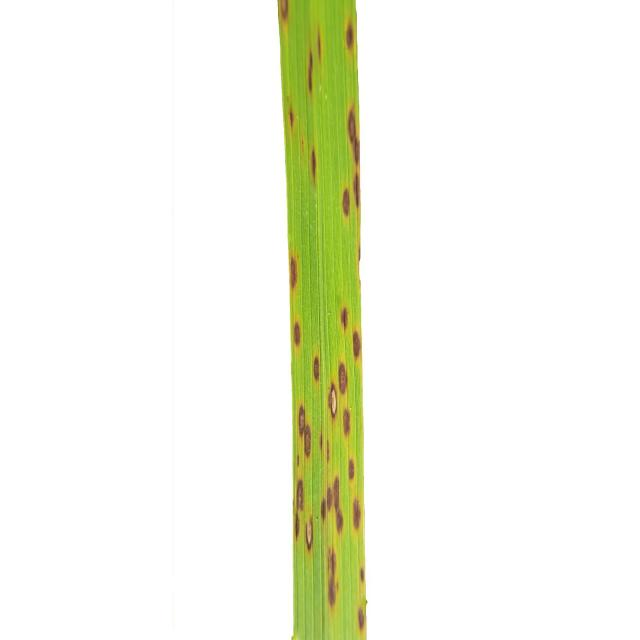Brown spot: (246, 0, 406, 640)
